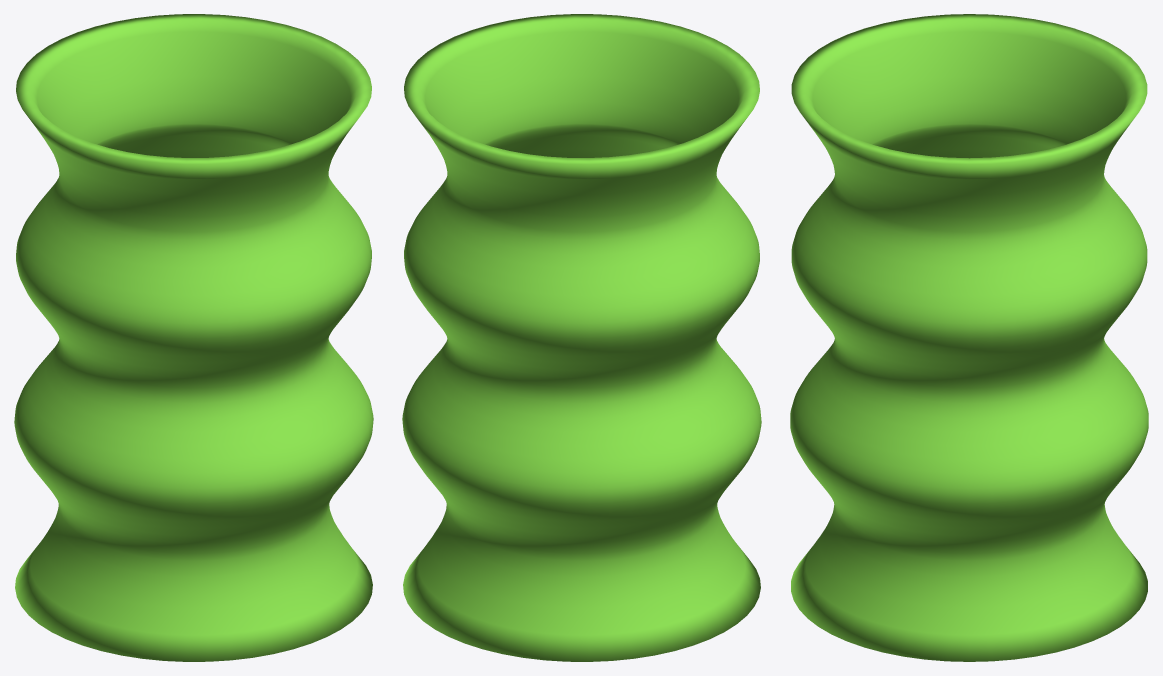
Rendered from Collection_8.fbx.
The picture shows the model from 3 angles, left to right: view 1: azimuth 30°, elevation 25°; view 2: azimuth 150°, elevation 25°; view 3: azimuth 270°, elevation 25°; orthographic projection.
Visible parts, largest first — view 1: KitchenGlasses.008; view 2: KitchenGlasses.008; view 3: KitchenGlasses.008.
Part boxes in pixels (x1,y1,x2,y2): KitchenGlasses.008: (14, 14, 373, 661); KitchenGlasses.008: (402, 14, 761, 661); KitchenGlasses.008: (790, 14, 1148, 661).
Bounding box in the file's own units: 0.0871 × 0.1332 × 0.0869.
